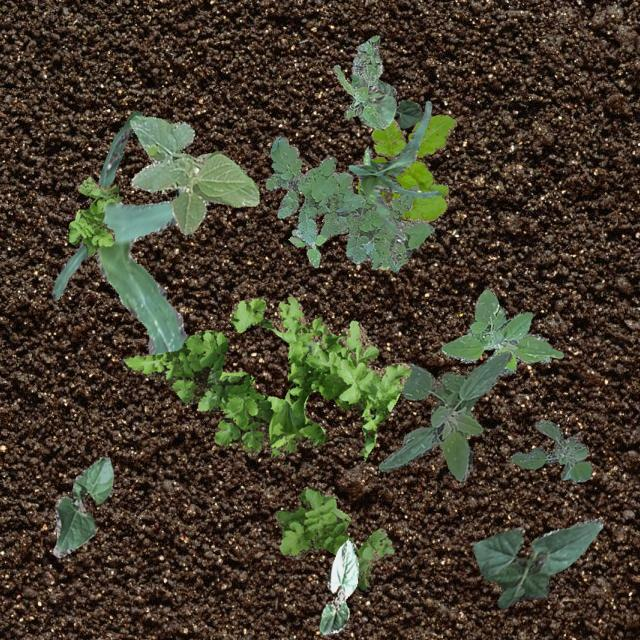crop: (50, 110, 186, 354), (128, 114, 258, 233), (348, 100, 440, 242), (472, 518, 602, 608), (440, 288, 562, 374), (51, 454, 112, 556), (318, 538, 358, 634), (350, 63, 396, 128), (376, 78, 422, 126)
weed: (122, 296, 410, 458), (264, 136, 433, 270), (378, 350, 510, 480), (356, 114, 456, 268), (274, 486, 394, 590), (508, 418, 590, 481), (332, 34, 386, 128), (66, 176, 120, 254), (288, 228, 326, 266)
